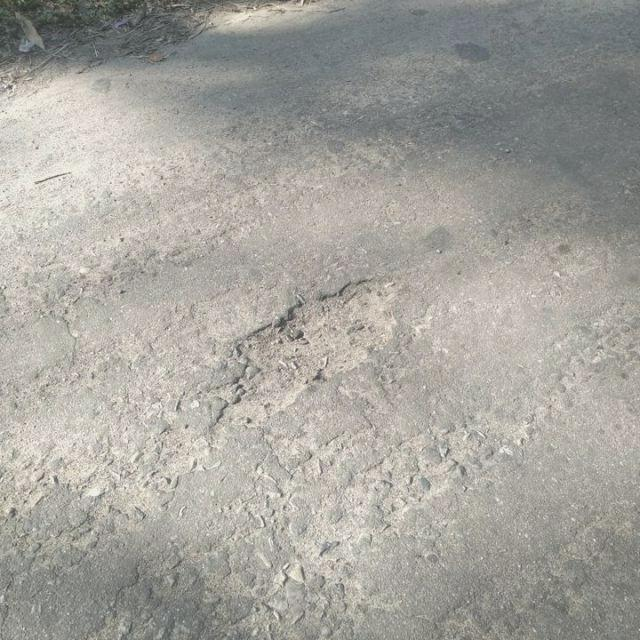Pothole: (210, 272, 404, 428)
